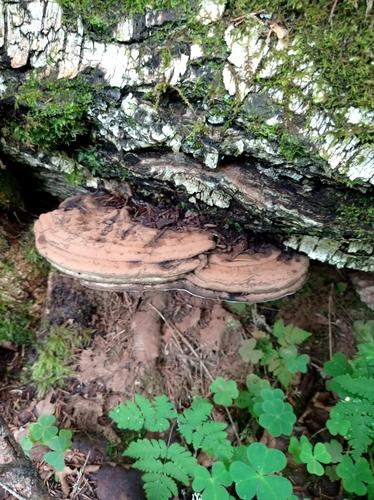Ganoderma - Fruit Body: (28, 193, 317, 309)
